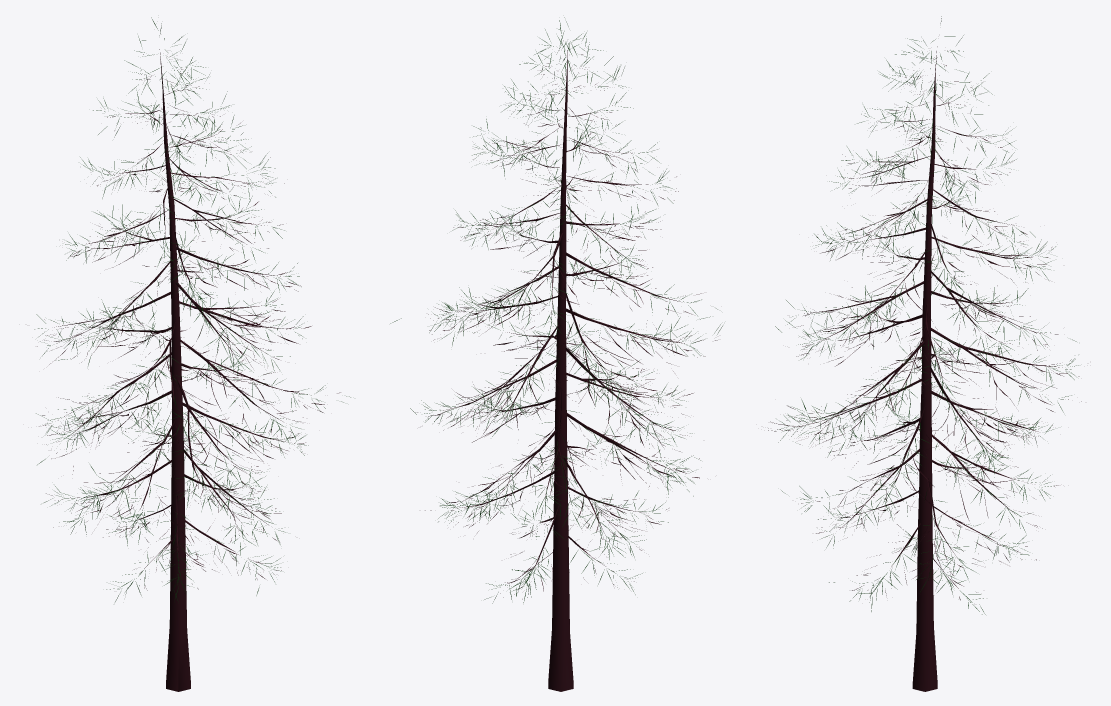
The model's file is pine_tree_lowpoly.glb.
The picture shows the model from 3 angles, left to right: view 1: azimuth 30°, elevation 25°; view 2: azimuth 150°, elevation 25°; view 3: azimuth 270°, elevation 25°; orthographic projection. The views are drawn at different scales.
Parts seen in each view (by area): view 1: tree, tree_Malzeme.001_0.001, leaves_Malzeme_0.002, leaves_Malzeme_0.001, leaves_Malzeme_0.007, leaves_Malzeme_0.005, leaves, leaves_Malzeme_0.003, leaves_Malzeme_0.008, leaves_Malzeme_0.004, leaves_Malzeme_0.006; view 2: tree, tree_Malzeme.001_0.001, leaves, leaves_Malzeme_0.005, leaves_Malzeme_0.008, leaves_Malzeme_0.007, leaves_Malzeme_0.003, leaves_Malzeme_0.006, leaves_Malzeme_0.004, leaves_Malzeme_0.002, leaves_Malzeme_0.001; view 3: tree, tree_Malzeme.001_0.001, leaves_Malzeme_0.003, leaves_Malzeme_0.008, leaves, leaves_Malzeme_0.005, leaves_Malzeme_0.002, leaves_Malzeme_0.007, leaves_Malzeme_0.006, leaves_Malzeme_0.004, leaves_Malzeme_0.001.
Part boxes in pixels (x1,y1,x2,y2): tree: (37, 49, 340, 691); tree_Malzeme.001_0.001: (42, 54, 323, 593); leaves_Malzeme_0.002: (52, 364, 308, 544); leaves_Malzeme_0.001: (36, 119, 350, 474); leaves_Malzeme_0.007: (65, 196, 299, 316); leaves_Malzeme_0.005: (55, 291, 303, 504); leaves: (93, 17, 251, 170); leaves_Malzeme_0.003: (81, 467, 280, 601); leaves_Malzeme_0.008: (80, 115, 284, 266); leaves_Malzeme_0.004: (44, 405, 285, 555); leaves_Malzeme_0.006: (34, 218, 290, 377); tree: (413, 40, 705, 691); tree_Malzeme.001_0.001: (425, 54, 717, 599); leaves: (494, 17, 633, 167); leaves_Malzeme_0.005: (437, 287, 722, 497); leaves_Malzeme_0.008: (462, 112, 673, 249); leaves_Malzeme_0.007: (452, 171, 657, 337); leaves_Malzeme_0.003: (438, 459, 694, 603); leaves_Malzeme_0.006: (390, 229, 717, 408); leaves_Malzeme_0.004: (440, 426, 693, 589); leaves_Malzeme_0.002: (469, 359, 693, 527); leaves_Malzeme_0.001: (410, 92, 700, 460); tree: (768, 46, 1068, 691); tree_Malzeme.001_0.001: (768, 52, 1081, 592); leaves_Malzeme_0.003: (818, 401, 1029, 614); leaves_Malzeme_0.008: (825, 147, 1035, 252); leaves: (857, 16, 1014, 179); leaves_Malzeme_0.005: (775, 285, 1078, 439); leaves_Malzeme_0.002: (778, 378, 1053, 519); leaves_Malzeme_0.007: (814, 187, 1055, 329); leaves_Malzeme_0.006: (786, 235, 1076, 367); leaves_Malzeme_0.004: (781, 410, 1054, 591); leaves_Malzeme_0.001: (796, 105, 1008, 480).
Size of the model in its own units: 20.32 by 47.46 by 22.09.
